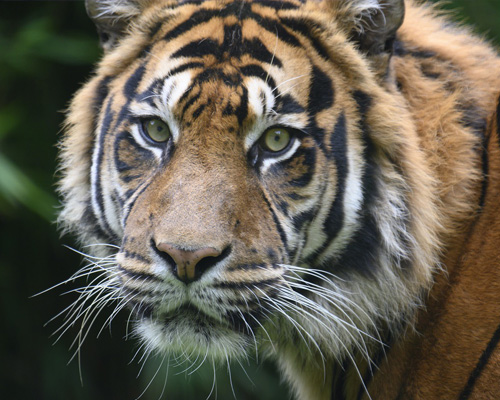Tigrew: (49, 4, 447, 370)
